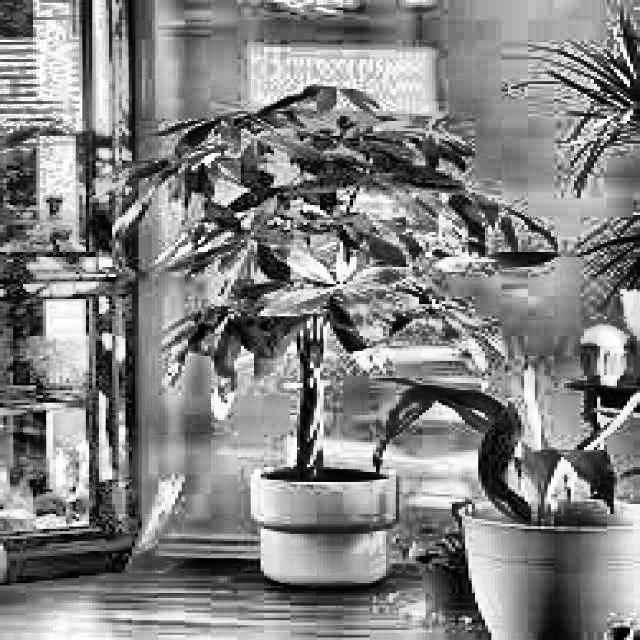plants: (94, 83, 566, 480)
